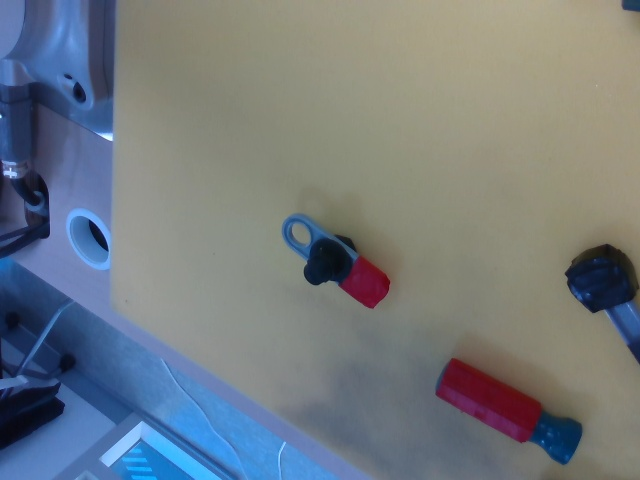part_1_good: (276, 210, 395, 310)
